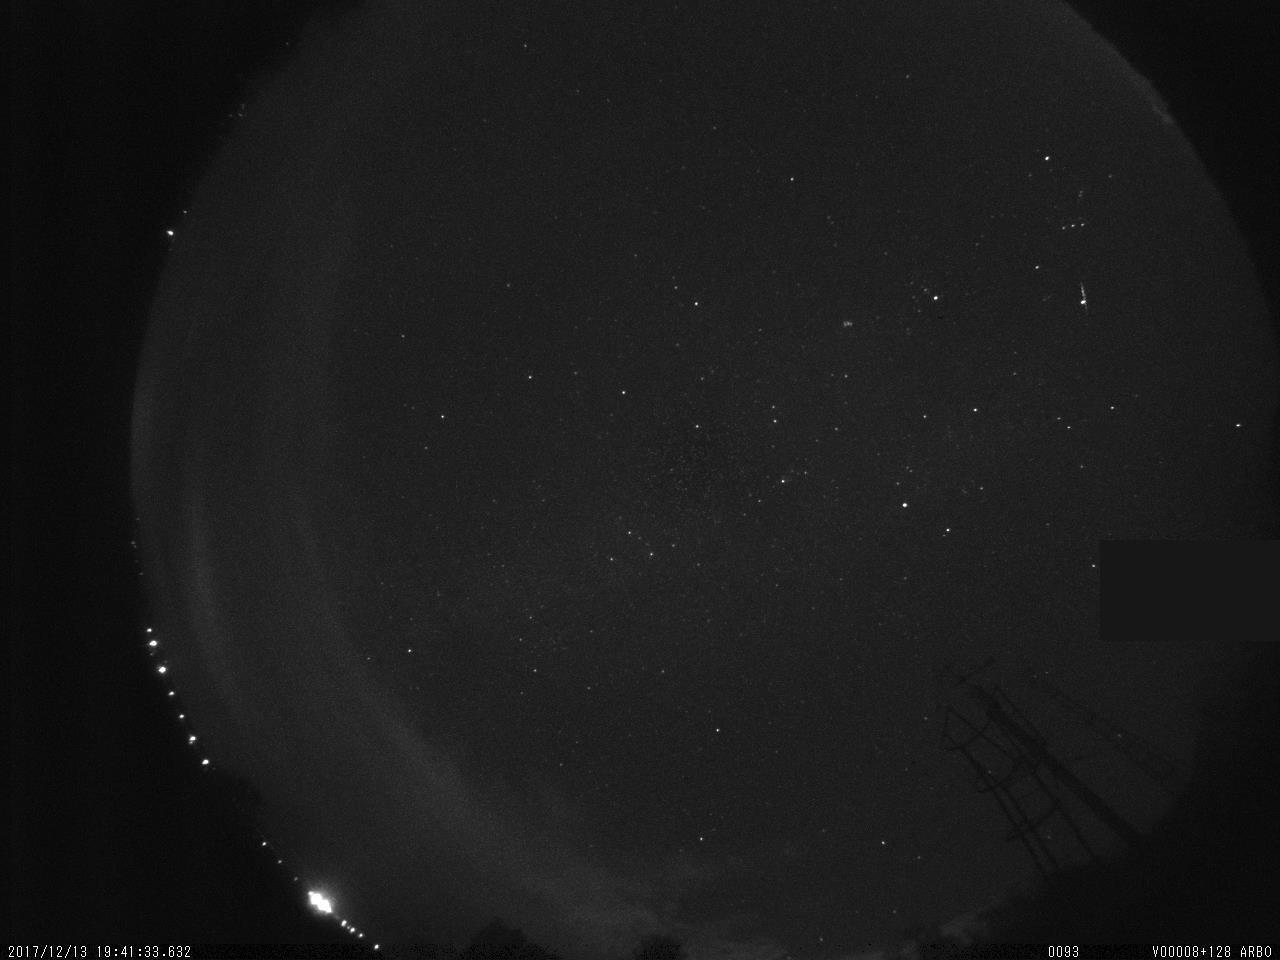Meteor: (1075, 277, 1091, 317)
